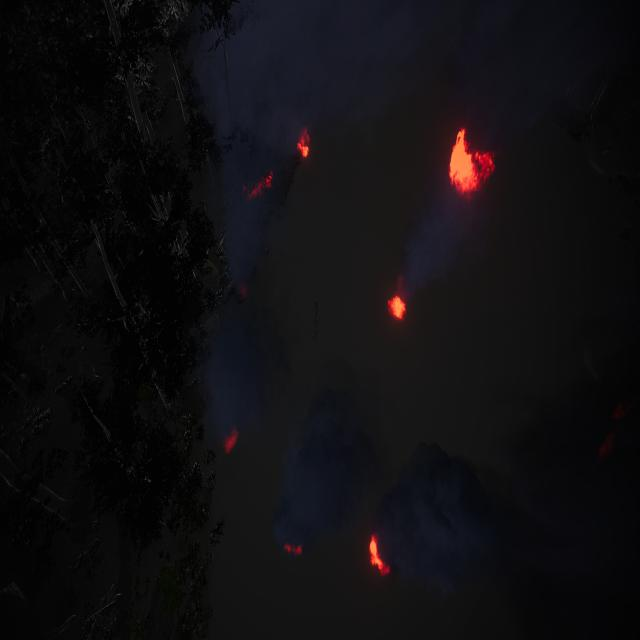Human: (307, 292, 329, 347)
